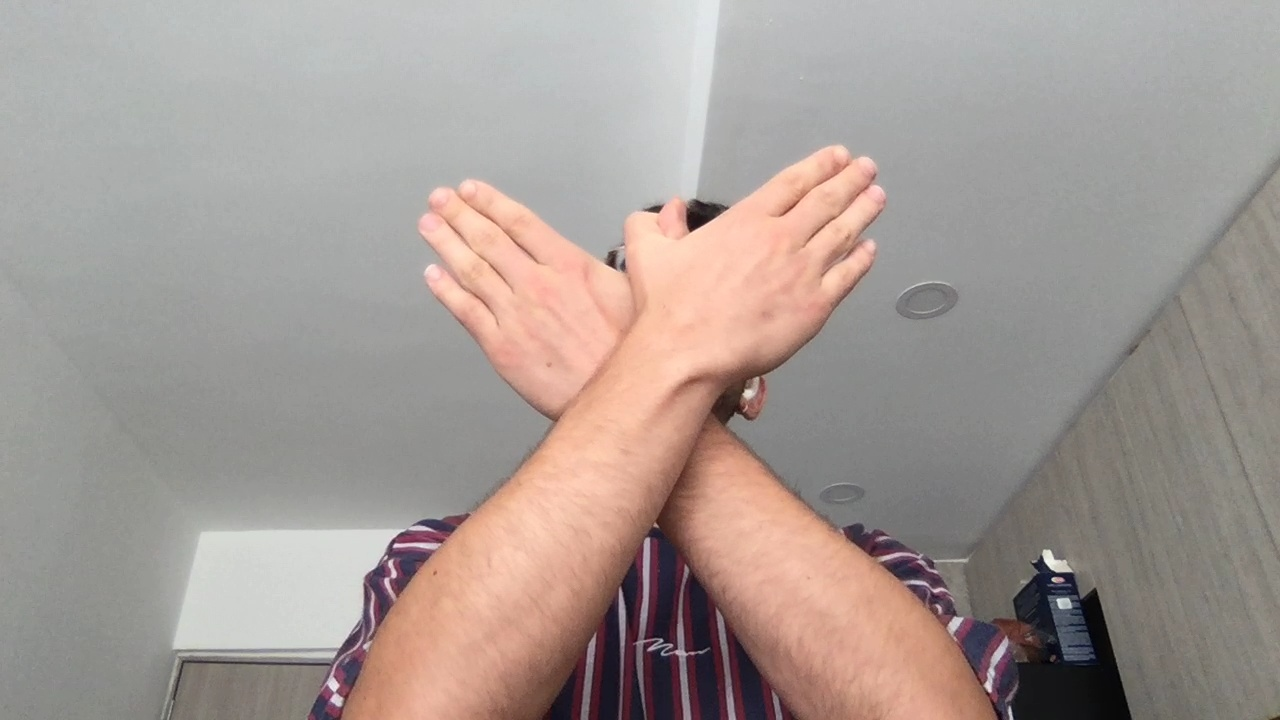ThankYou: (415, 141, 892, 437)
